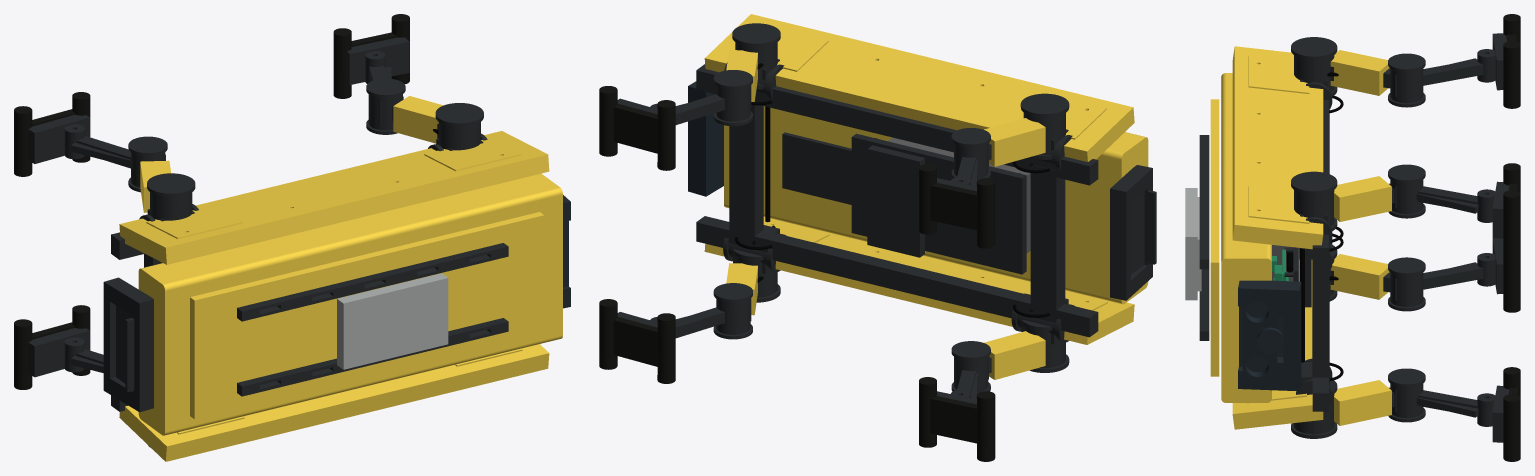
Rendered from .robot_dog_buildables_demo.step.glb.
The picture shows the model from 3 angles, left to right: view 1: azimuth 30°, elevation 25°; view 2: azimuth 150°, elevation 25°; view 3: azimuth 270°, elevation 25°; orthographic projection. The views are drawn at different scales.
Parts seen in each view (by area): view 1: o1.1.2, o1.1.1, o1.2.1, o1.3.1, o1.11.1, o1.5.1, o1.8.1, o1.9.1, o1.51.1, o1.42.1, o1.24.1, o1.25.1 (+14 smaller); view 2: o1.10.1, o1.2.1, o1.1.1, o1.6.1, o1.3.1, o1.10.2, o1.5.1, o1.25.1, o1.34.1, o1.52.1, o1.43.1, o1.7.1 (+24 smaller); view 3: o1.2.1, o1.4.1, o1.1.1, o1.10.1, o1.3.1, o1.1.2, o1.29.1, o1.20.1, o1.38.1, o1.47.1, o1.19.1, o1.37.1 (+27 smaller).
Part boxes in pixels (x1,y1,x2,y2): o1.1.2: [190, 212, 544, 419]; o1.1.1: [138, 173, 562, 435]; o1.2.1: [119, 131, 549, 264]; o1.3.1: [119, 344, 549, 461]; o1.11.1: [337, 273, 448, 369]; o1.5.1: [103, 277, 153, 412]; o1.8.1: [237, 243, 508, 321]; o1.9.1: [237, 318, 508, 396]; o1.51.1: [28, 328, 89, 377]; o1.42.1: [28, 114, 89, 163]; o1.24.1: [347, 37, 409, 84]; o1.25.1: [333, 14, 409, 98]; o1.10.1: [696, 64, 1098, 337]; o1.2.1: [704, 14, 1134, 161]; o1.1.1: [724, 106, 1148, 304]; o1.6.1: [851, 133, 1026, 274]; o1.3.1: [704, 217, 1134, 344]; o1.10.2: [867, 145, 924, 257]; o1.5.1: [1110, 165, 1152, 300]; o1.25.1: [599, 86, 675, 170]; o1.34.1: [599, 299, 675, 383]; o1.52.1: [919, 377, 995, 461]; o1.43.1: [919, 164, 995, 248]; o1.7.1: [782, 132, 851, 204]; o1.2.1: [1232, 46, 1323, 249]; o1.4.1: [1238, 280, 1301, 391]; o1.1.1: [1221, 73, 1271, 402]; o1.10.1: [1312, 100, 1329, 411]; o1.3.1: [1232, 260, 1323, 429]; o1.1.2: [1210, 99, 1219, 376]; o1.29.1: [1334, 380, 1391, 425]; o1.20.1: [1334, 176, 1391, 221]; o1.38.1: [1330, 50, 1389, 95]; o1.47.1: [1330, 254, 1389, 299]; o1.19.1: [1291, 171, 1337, 230]; o1.37.1: [1291, 37, 1337, 96].
Bounding box in the file's own units: 1.02 × 0.604 × 0.695.
